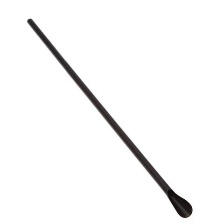drinking_straw: (21, 13, 199, 221)
